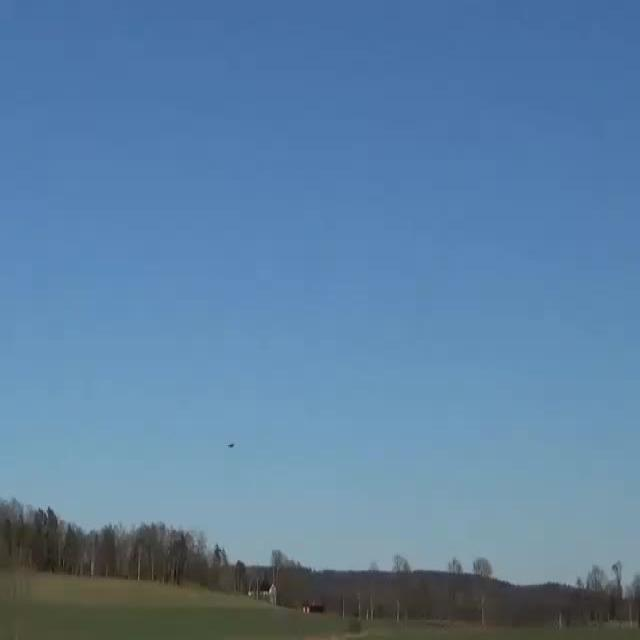bird: (224, 436, 240, 456)
